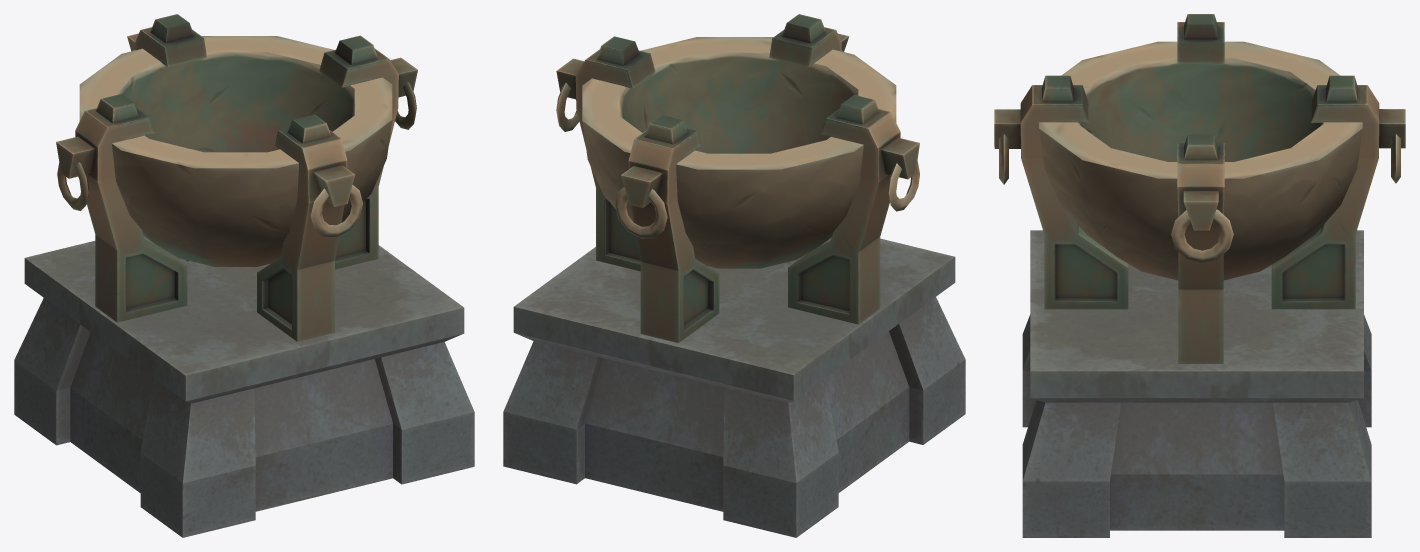
The model's file is AD_Brazier_A_01.fbx.
3 renders of one model, left to right at view 1: azimuth 30°, elevation 25°; view 2: azimuth 150°, elevation 25°; view 3: azimuth 270°, elevation 25°, orthographic. The views are drawn at different scales.
Visible parts, largest first — view 1: AD_Brazier_A_01; view 2: AD_Brazier_A_01; view 3: AD_Brazier_A_01.
Part boxes in pixels (left/top/right/bottom): AD_Brazier_A_01: left=14, top=14, right=474, bottom=537; AD_Brazier_A_01: left=503, top=14, right=965, bottom=537; AD_Brazier_A_01: left=994, top=14, right=1405, bottom=537.
Size of the model in its own units: 189 by 193 by 189.
1 material, 1 textured.
